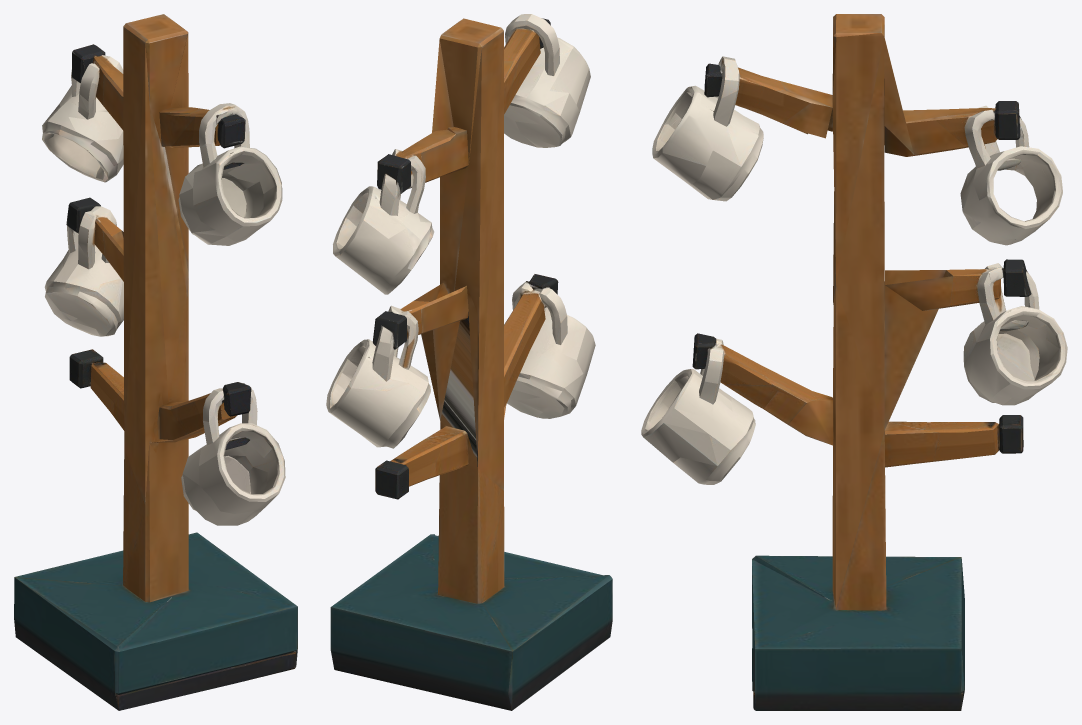
Rendered from cupTree.glb.
The picture shows the model from 3 angles, left to right: view 1: azimuth 30°, elevation 25°; view 2: azimuth 150°, elevation 25°; view 3: azimuth 270°, elevation 25°; orthographic projection. The views are drawn at different scales.
Visible parts, largest first — view 1: Mesh_0; view 2: Mesh_0; view 3: Mesh_0.
Part boxes in pixels (x1=…): Mesh_0: x1=14, y1=14, x2=297, y2=710; Mesh_0: x1=326, y1=14, x2=612, y2=710; Mesh_0: x1=641, y1=14, x2=1067, y2=710.
Bounding box in the file's own units: 0.1529 × 0.5 × 0.3004.
1 material, 1 textured.
